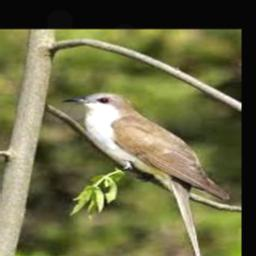Cuckoo: (61, 92, 230, 200)
